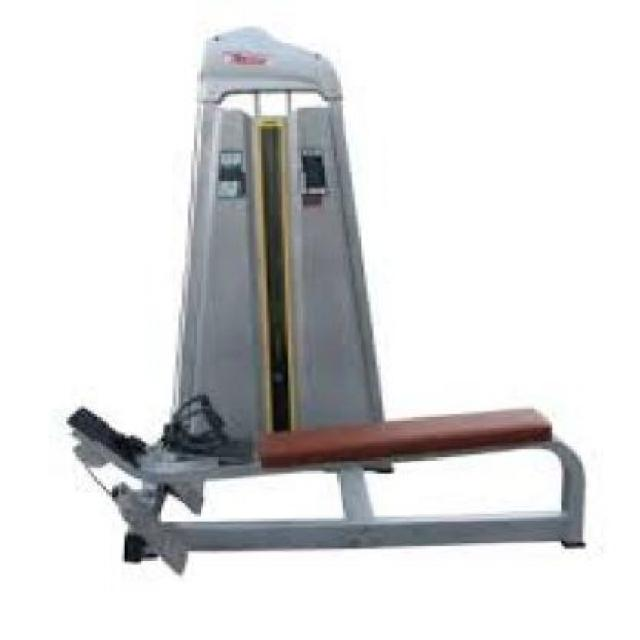Seated Cable Rows: (50, 16, 608, 586)
